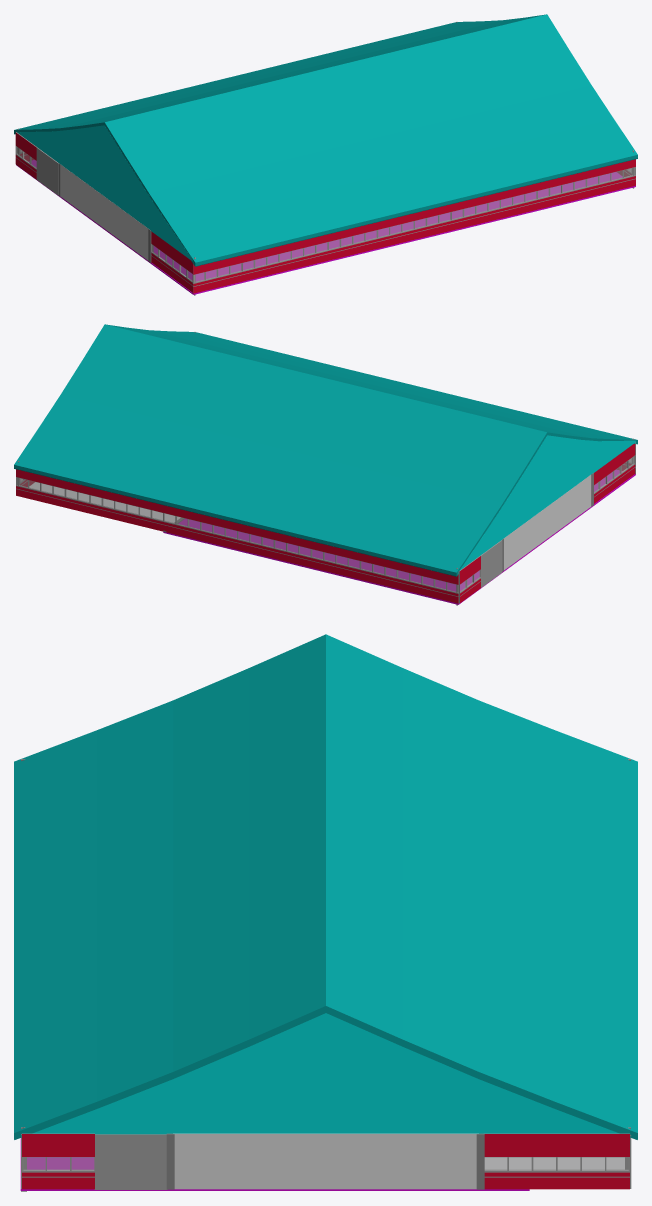
The model's file is Hall.fbx.
3 views of the same model, one above another, from view 1: azimuth 30°, elevation 25°; view 2: azimuth 150°, elevation 25°; view 3: azimuth 270°, elevation 25° (orthographic). The views are drawn at different scales.
Visible parts, largest first — view 1: Roof_Test, Wall_Shape8, pCube24, pCube1, pCube20, Door_wall1, Wall_Small_6, Wall_Small_5, Wall_Small_4; view 2: Roof_Test, Wall_Shape7, pCube24, pCube1, pCube20, Door_wall1, Wall_Small_6, Wall_Small_4, Wall_Small_5; view 3: Roof_Test, pCube23, pCube17, Wall_Small_1, Wall_Small_3, Wall_Small_2, Door_wall, pCube1.
Part boxes in pixels (x1,y1,x2,y2): Roof_Test: (14,14,637,266); Wall_Shape8: (192,159,635,293); pCube24: (17,125,192,261); pCube1: (16,160,635,294); pCube20: (60,165,148,260); Door_wall1: (36,147,58,194); Wall_Small_6: (15,132,37,179); Wall_Small_5: (151,231,172,277); Wall_Small_4: (172,247,194,292); Roof_Test: (14,324,637,576); Wall_Shape7: (16,469,458,603); pCube24: (459,435,635,570); pCube1: (163,470,635,604); pCube20: (504,475,591,570); Door_wall1: (480,540,502,587); Wall_Small_6: (459,555,480,603); Wall_Small_4: (614,444,634,488); Wall_Small_5: (594,458,614,503); Roof_Test: (14,634,637,1139); pCube23: (32,1013,619,1134); pCube17: (173,1133,478,1189); Wall_Small_1: (22,1133,94,1189); Wall_Small_3: (557,1133,629,1189); Wall_Small_2: (484,1133,556,1189); Door_wall: (94,1134,167,1189); pCube1: (20,1138,529,1190).
Bounding box in the file's own units: 72.29 × 16.91 × 51.1.
